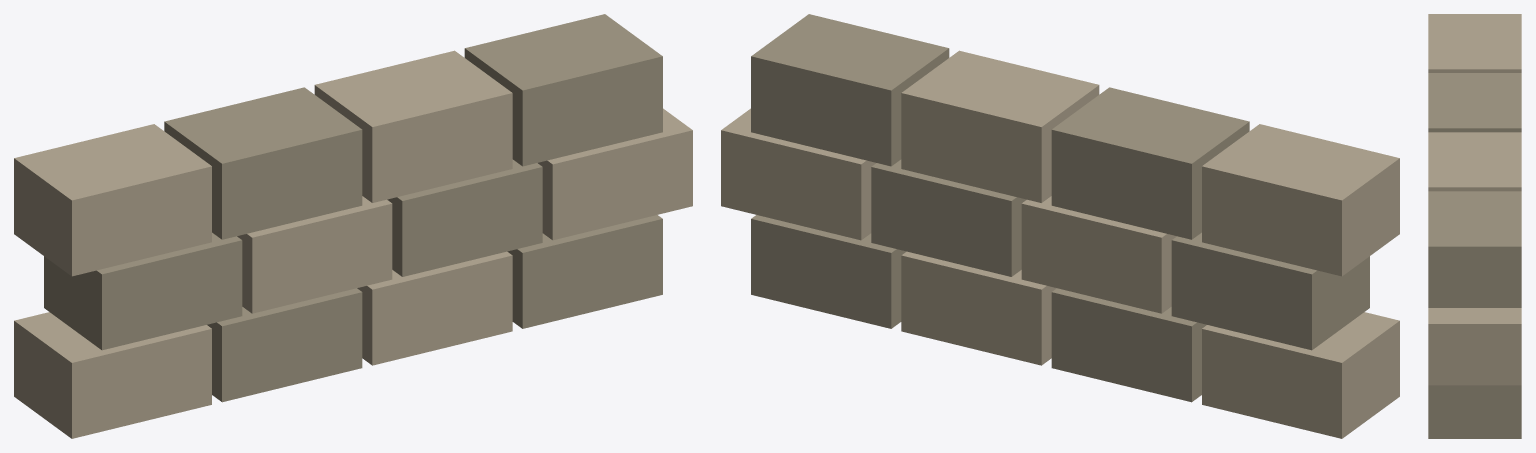
File: brick-wall.glb
The picture shows the model from 3 angles, left to right: view 1: azimuth 30°, elevation 25°; view 2: azimuth 150°, elevation 25°; view 3: azimuth 270°, elevation 25°; orthographic projection. The views are drawn at different scales.
Visible parts, largest first — view 1: brick-wall; view 2: brick-wall; view 3: brick-wall.
Boxes of the visible parts, <box> form: brick-wall: <box>14,14,692,438</box>; brick-wall: <box>721,14,1399,438</box>; brick-wall: <box>1428,14,1521,438</box>.
Size of the model in its own units: 2.48 by 0.91 by 0.4.
